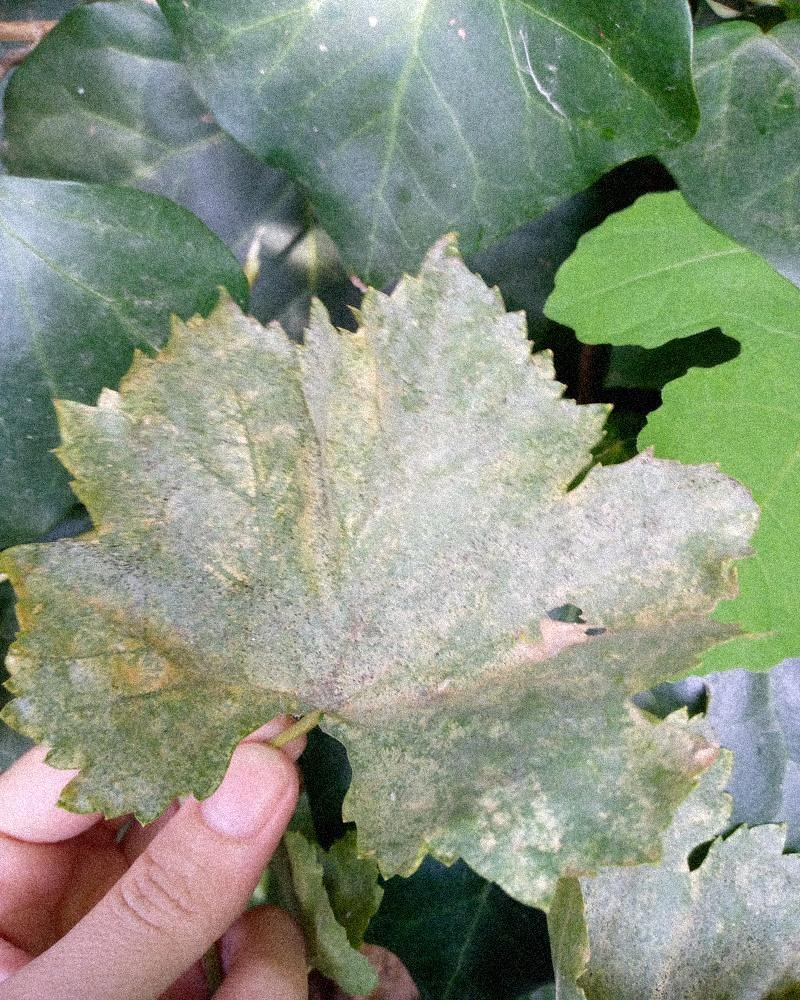Powdery-Mildew: (349, 277, 740, 726), (56, 301, 297, 567), (266, 324, 447, 636), (23, 552, 289, 718), (589, 691, 734, 857), (445, 744, 591, 889)
